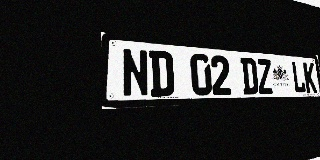0: (190, 53, 212, 96)
2: (210, 55, 231, 95)
D: (149, 50, 175, 97), (240, 57, 259, 95)
K: (303, 62, 317, 93)
L: (291, 61, 306, 93)
N: (121, 48, 150, 97)
Z: (256, 58, 274, 94)
